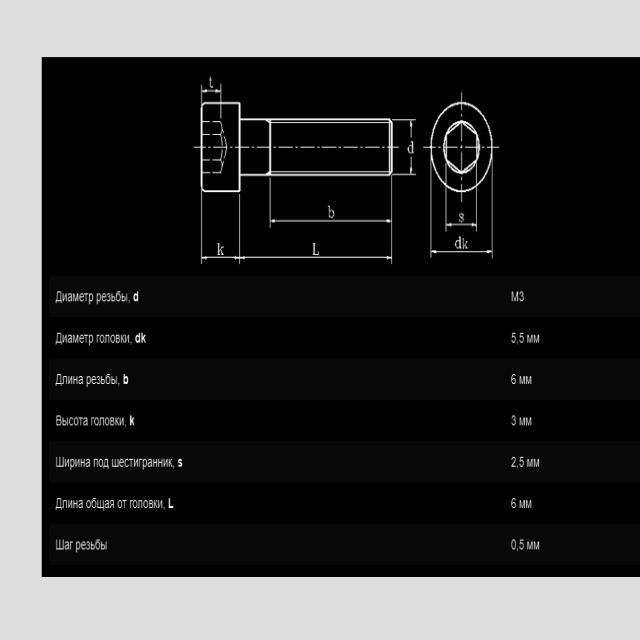marking_line: (269, 219, 393, 227), (429, 249, 496, 261), (239, 256, 392, 261), (200, 84, 223, 101), (202, 254, 239, 262), (447, 222, 478, 229), (407, 154, 416, 177), (406, 120, 414, 137)
numeric: (509, 538, 529, 555), (509, 330, 528, 347), (510, 454, 528, 470), (511, 368, 519, 390), (510, 415, 520, 427), (509, 497, 518, 510)
